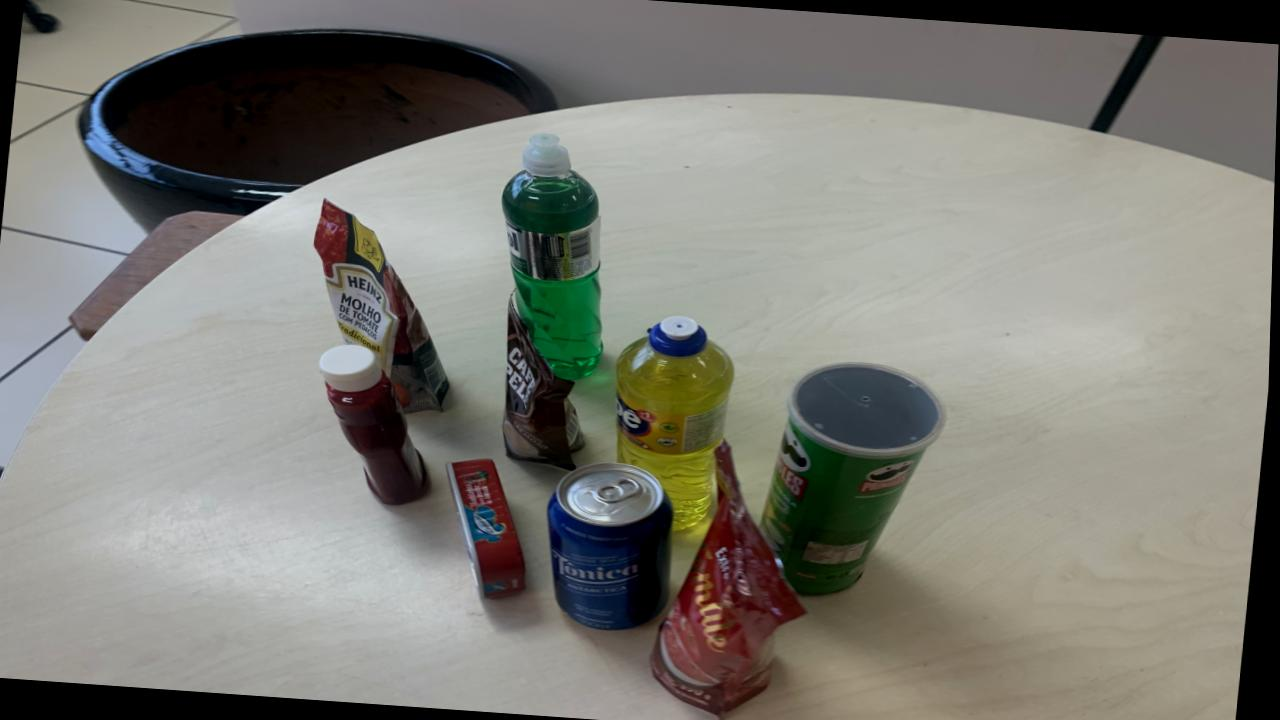Coffee-Pantry_Items: (505, 295, 586, 469)
Detergent-Cleanup_Items: (617, 314, 736, 529), (503, 133, 604, 379)
Ketchup-Pantry_Items: (320, 344, 433, 504)
Pringles-Snacks: (764, 362, 947, 594)
Tomato_Sauce-Pantry_Items: (653, 442, 809, 717), (314, 199, 452, 413)
Tonic-Drinks: (549, 462, 676, 630)
Tuna_Can-Pantry_Items: (449, 458, 528, 598)
